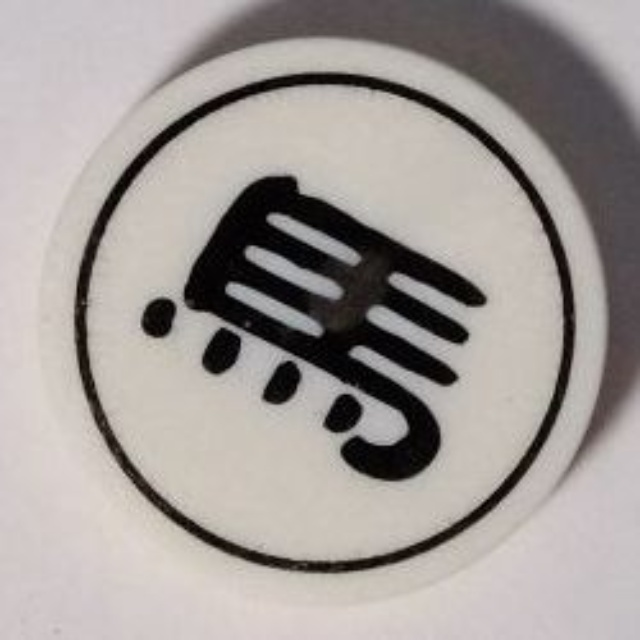black_ma: (35, 29, 624, 596)
